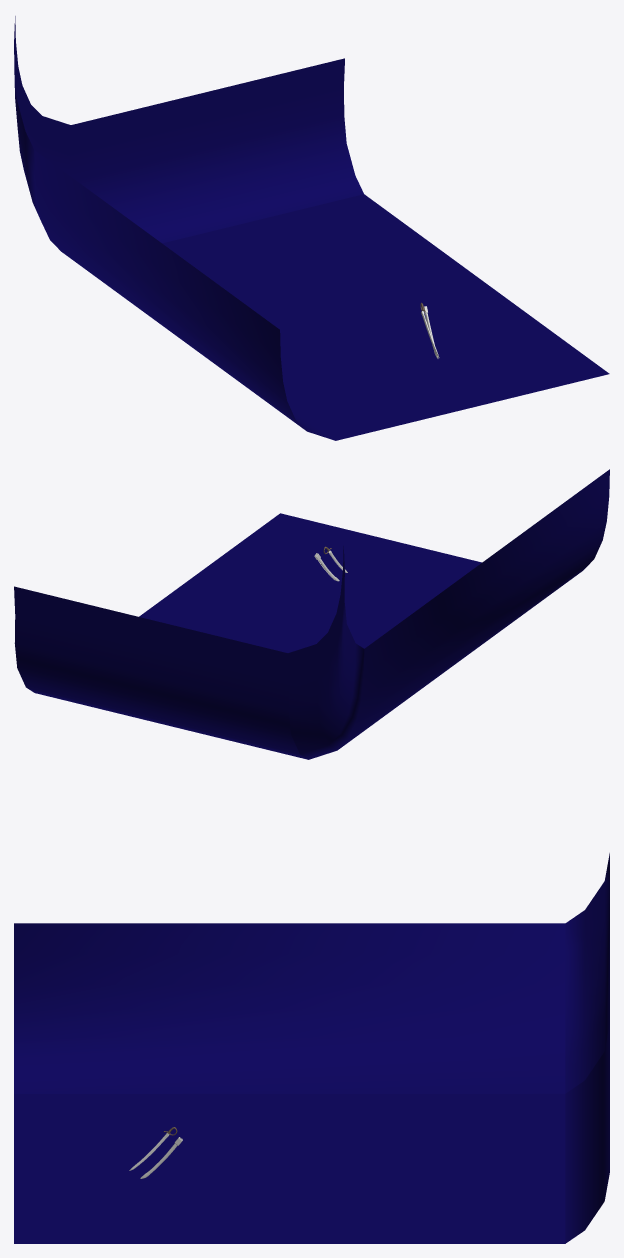
The model's file is sable_FBX.fbx.
The picture shows the model from 3 angles, top to bottom: view 1: azimuth 30°, elevation 25°; view 2: azimuth 150°, elevation 25°; view 3: azimuth 270°, elevation 25°; orthographic projection. The views are drawn at different scales.
Parts seen in each view (by area): view 1: Plane.004; view 2: Plane.004; view 3: Plane.004.
Part boxes in pixels (left/top/right/bottom): Plane.004: left=14, top=16, right=609, bottom=440; Plane.004: left=14, top=469, right=609, bottom=759; Plane.004: left=14, top=853, right=609, bottom=1243.
Bounding box in the file's own units: 4683 × 3322 × 6507.
